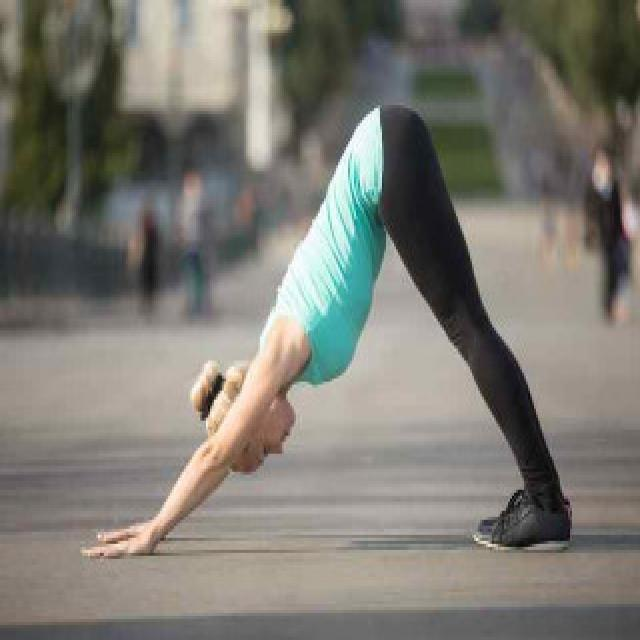yoga-pose downward: (96, 103, 577, 561)
